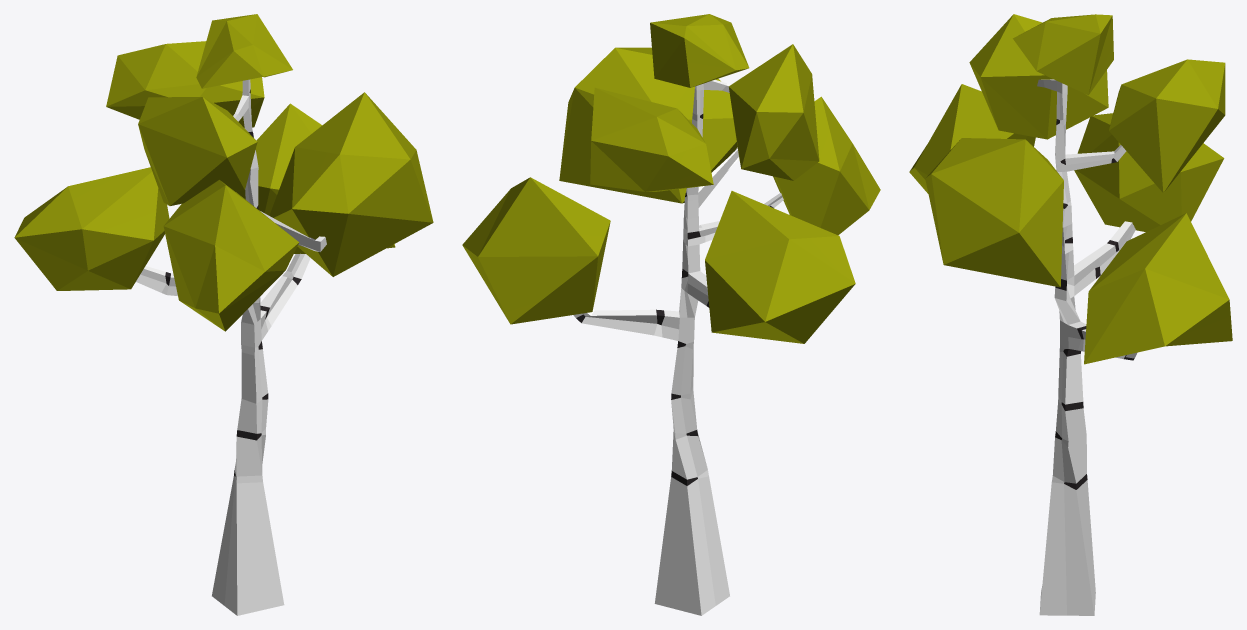
File: birch-tree-green-1.gltf
3 renders of one model, left to right at view 1: azimuth 30°, elevation 25°; view 2: azimuth 150°, elevation 25°; view 3: azimuth 270°, elevation 25°, orthographic. The views are drawn at different scales.
Parts seen in each view (by area): view 1: Cube; view 2: Cube; view 3: Cube.
Boxes of the visible parts, bbox=[...] form: Cube: bbox=[14, 14, 433, 615]; Cube: bbox=[462, 14, 880, 615]; Cube: bbox=[909, 14, 1232, 615].
Bounding box in the file's own units: 16.55 × 24.18 × 12.1.
Materials: 1 (1 with a texture image).
